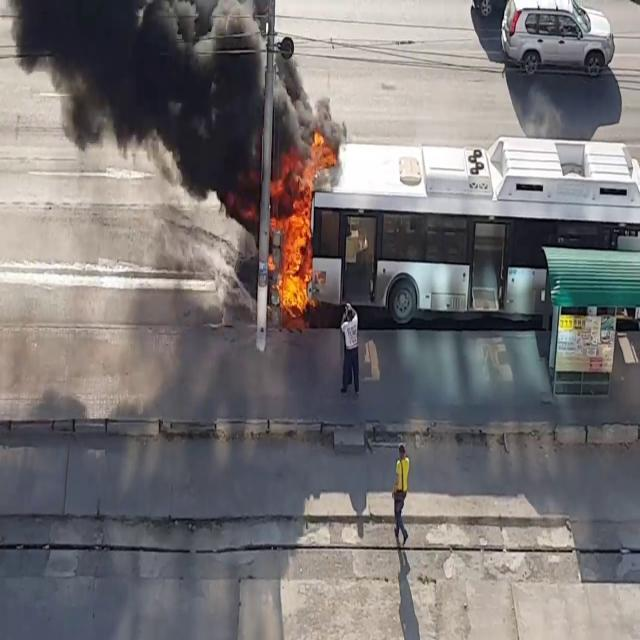Fire: (268, 133, 329, 315)
Smoke: (9, 2, 324, 185)
